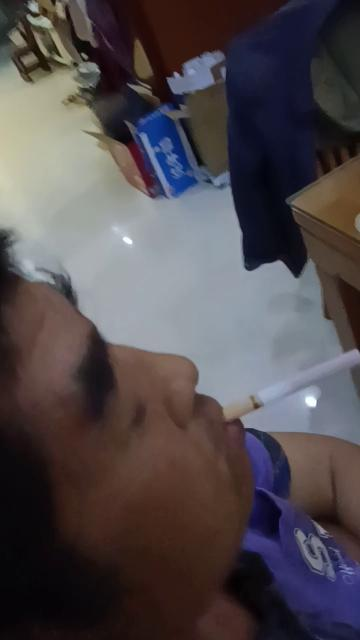Smoking: (224, 349, 360, 423)
